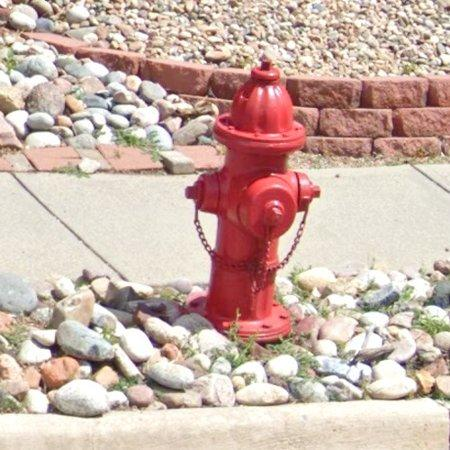a fire hydrant: (186, 60, 321, 343)
